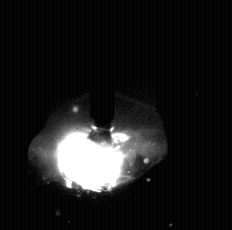arame: (90, 0, 117, 146)
poca: (28, 0, 169, 230)
